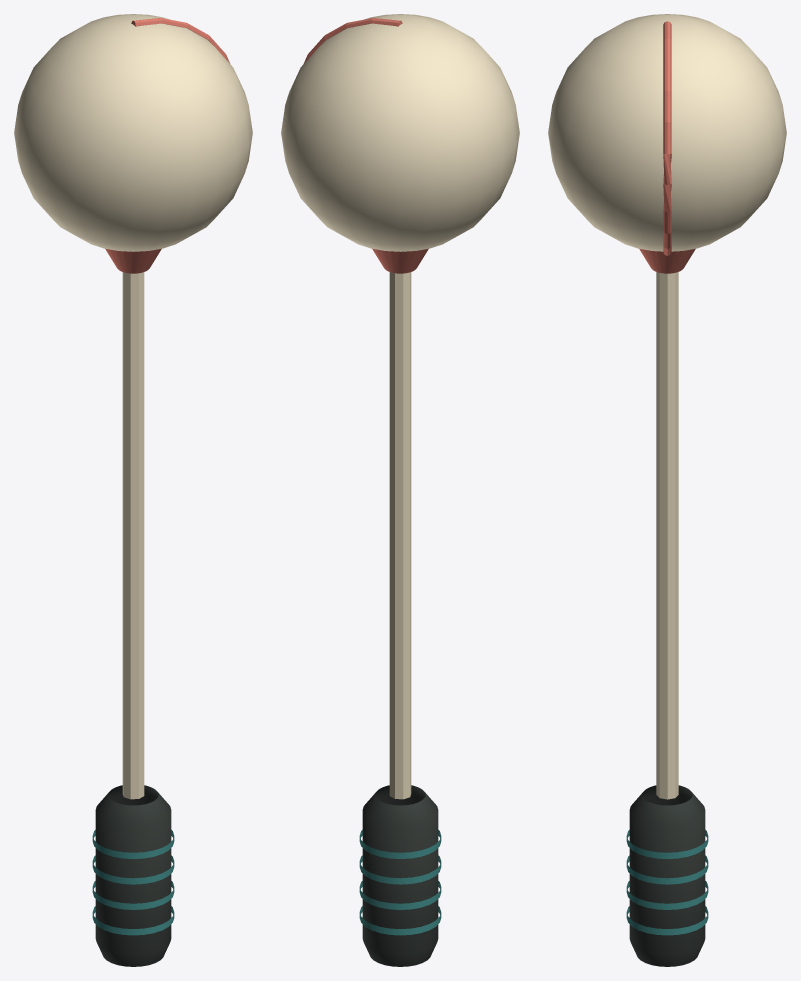
Rendered from AH01_PoiPractice.fbx.
The picture shows the model from 3 angles, left to right: view 1: azimuth 30°, elevation 25°; view 2: azimuth 150°, elevation 25°; view 3: azimuth 270°, elevation 25°; orthographic projection.
Visible parts, largest first — view 1: AH01_PracticeHead, AH01_PracticeTether, AH01_PracticeHandle, AH01_SockNeck, AH01_PracticeGripRib, AH01_PracticeGripRib.002, AH01_PracticeGripRib.001, AH01_PracticeGripRib.003, AH01_SockSeam; view 2: AH01_PracticeHead, AH01_PracticeTether, AH01_PracticeHandle, AH01_SockNeck, AH01_PracticeGripRib, AH01_PracticeGripRib.002, AH01_PracticeGripRib.001, AH01_PracticeGripRib.003, AH01_SockSeam; view 3: AH01_PracticeHead, AH01_PracticeTether, AH01_PracticeHandle, AH01_SockSeam, AH01_SockNeck, AH01_PracticeGripRib, AH01_PracticeGripRib.002, AH01_PracticeGripRib.001, AH01_PracticeGripRib.003.
Boxes of the visible parts, x1,y1,x2,y2 form: AH01_PracticeHead: (14, 14, 252, 251); AH01_PracticeTether: (122, 272, 144, 799); AH01_PracticeHandle: (95, 785, 171, 966); AH01_SockNeck: (105, 248, 161, 273); AH01_PracticeGripRib: (92, 906, 174, 935); AH01_PracticeGripRib.002: (92, 855, 174, 884); AH01_PracticeGripRib.001: (92, 881, 174, 909); AH01_PracticeGripRib.003: (92, 830, 174, 858); AH01_SockSeam: (131, 18, 230, 63); AH01_PracticeHead: (281, 14, 519, 251); AH01_PracticeTether: (389, 272, 411, 799); AH01_PracticeHandle: (362, 785, 438, 966); AH01_SockNeck: (372, 248, 428, 273); AH01_PracticeGripRib: (359, 906, 441, 935); AH01_PracticeGripRib.002: (359, 855, 441, 884); AH01_PracticeGripRib.001: (359, 881, 441, 909); AH01_PracticeGripRib.003: (359, 830, 441, 858); AH01_SockSeam: (303, 18, 402, 63); AH01_PracticeHead: (548, 14, 786, 251); AH01_PracticeTether: (656, 272, 678, 799); AH01_PracticeHandle: (629, 785, 705, 966); AH01_SockSeam: (663, 21, 671, 255); AH01_SockNeck: (639, 248, 695, 273); AH01_PracticeGripRib: (626, 906, 708, 935); AH01_PracticeGripRib.002: (626, 855, 708, 884); AH01_PracticeGripRib.001: (626, 881, 708, 909); AH01_PracticeGripRib.003: (626, 830, 708, 858).
Bounding box in the file's own units: 17.3 × 73.3 × 17.
